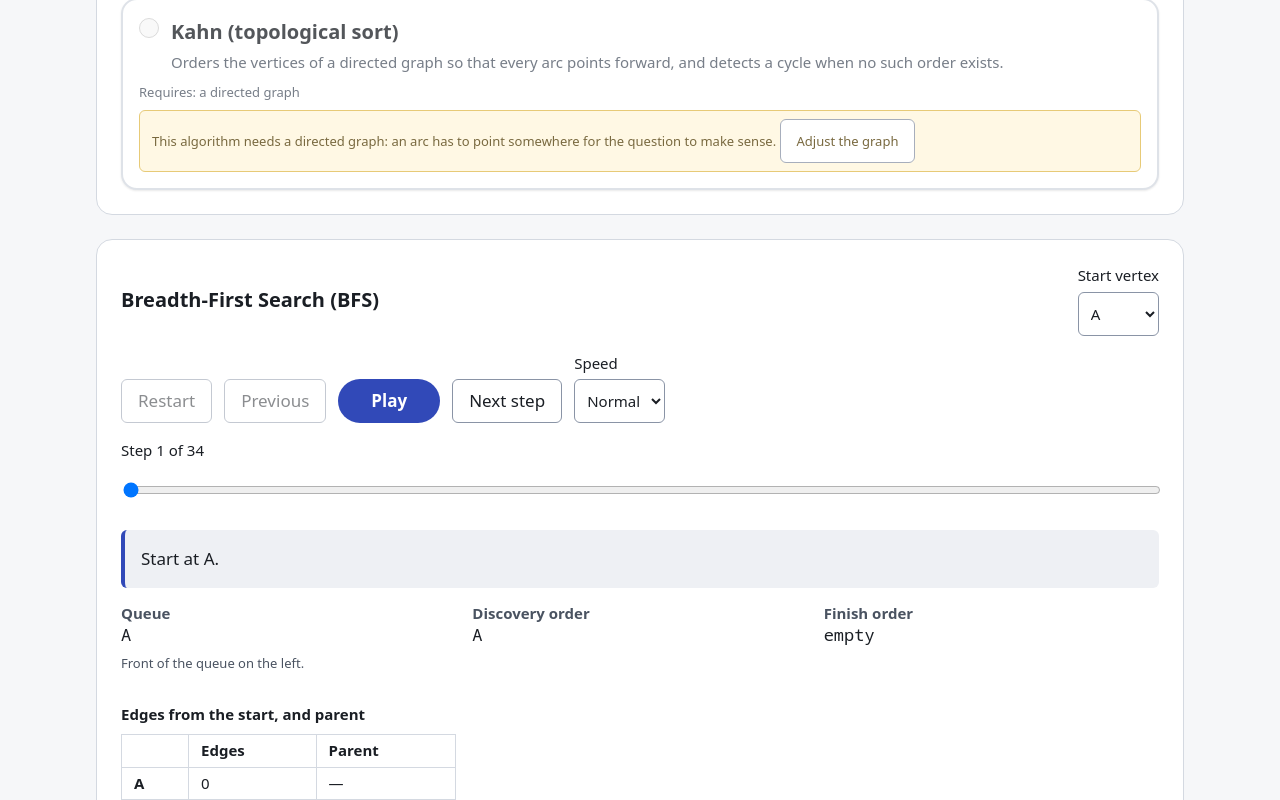
Test: running an algorithm › steps forward and back over a precomputed trace
(page scrolled)
Expected: the text "Step 1 of 34" is shown, [121,440,204,460]
What coordinates should you click on to do the following:
click the button "Next step"
I would click on:
 (507, 401)
Its box is [452,379,562,423].
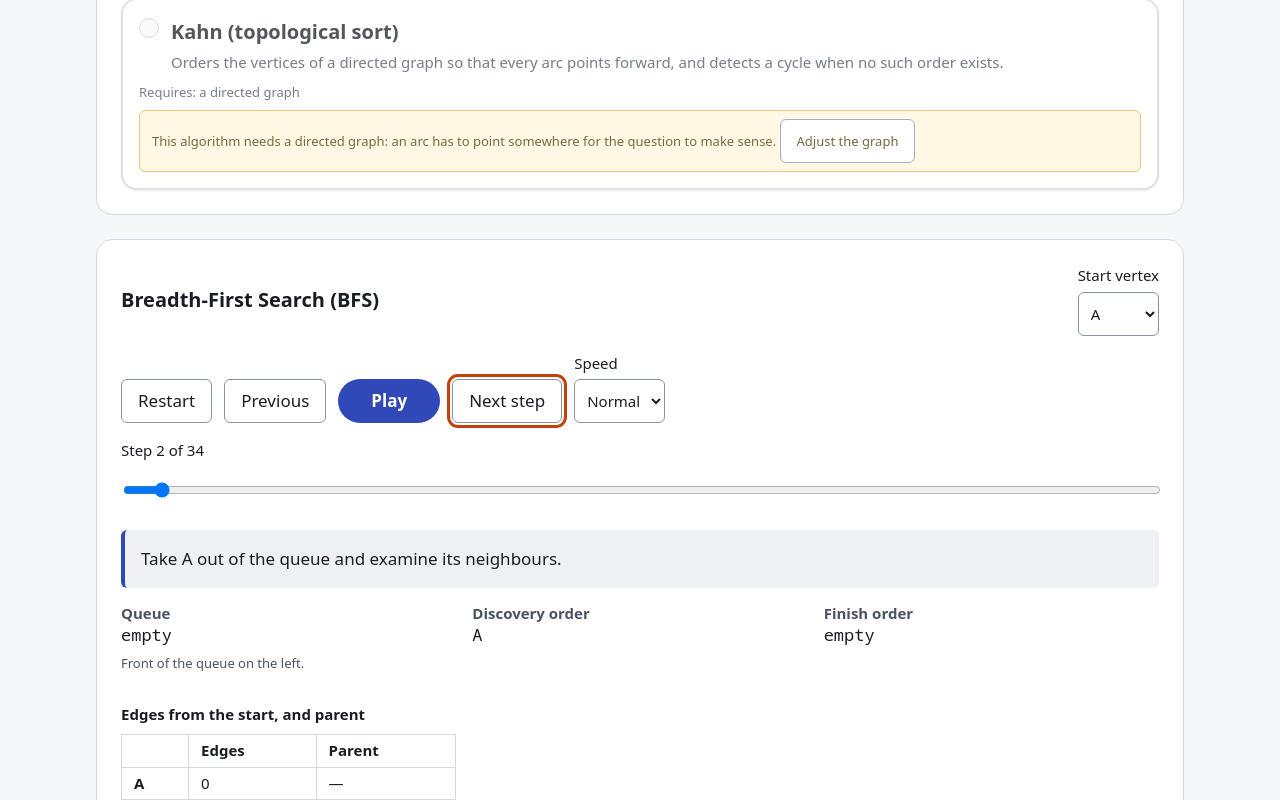
Expected: the text "Step 2 of 34" is shown, [121,440,204,460]
What coordinates should you click on to do the following:
click the button "Previous"
I would click on:
 (275, 401)
Its box is [224,379,326,423].
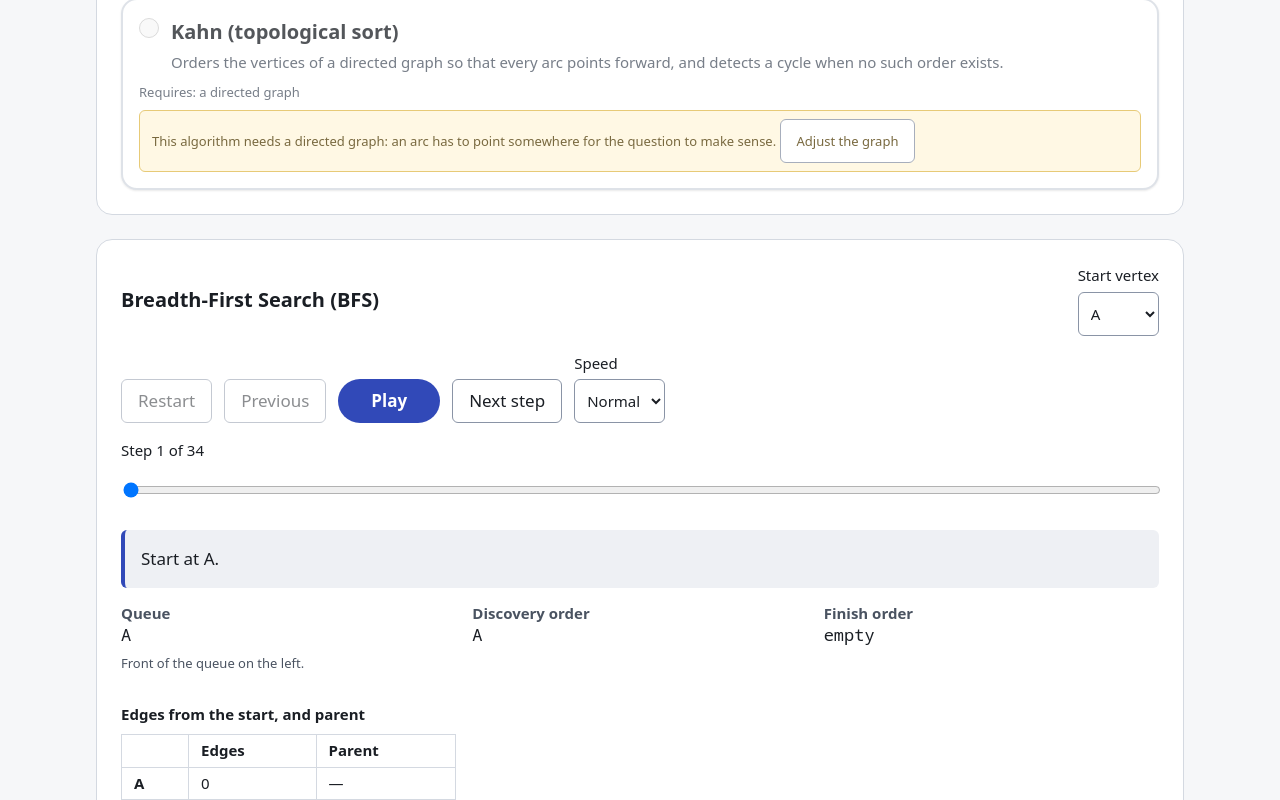
Expected: the text "Step 1 of 34" is shown, [121,440,204,460]
Expected: the button "Previous" is disabled, [224,379,326,423]
